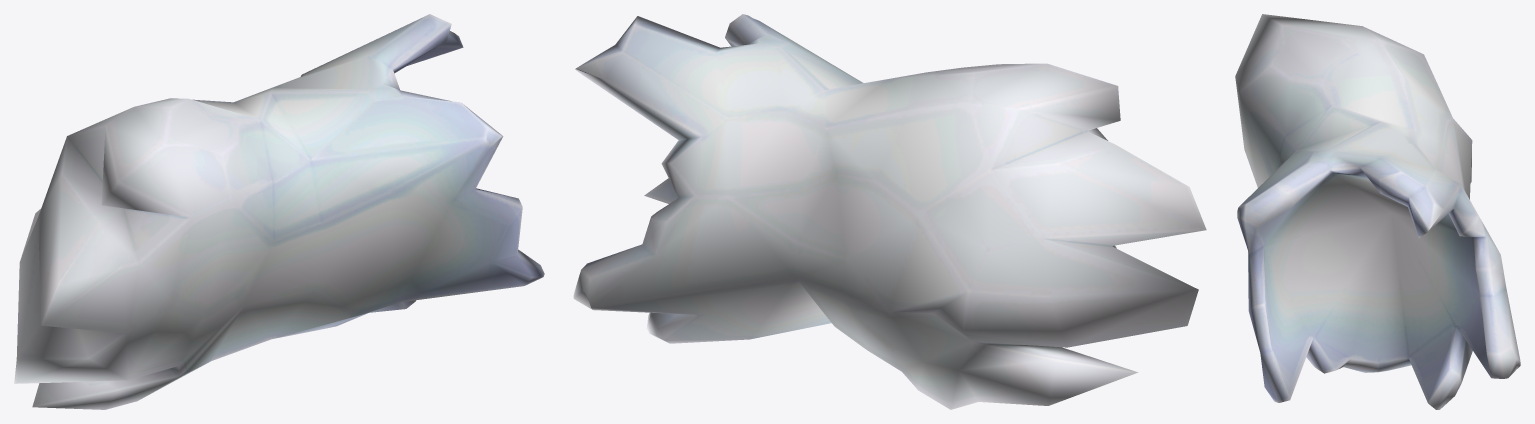
File: item_weaknumgm2501-et06.glb
3 renders of one model, left to right at view 1: azimuth 30°, elevation 25°; view 2: azimuth 150°, elevation 25°; view 3: azimuth 270°, elevation 25°, orthographic. The views are drawn at different scales.
Parts seen in each view (by area): view 1: FlyffMesh; view 2: FlyffMesh; view 3: FlyffMesh.
Boxes of the visible parts, x1=… form: FlyffMesh: x1=14, y1=14, x2=544, y2=409; FlyffMesh: x1=573, y1=14, x2=1206, y2=409; FlyffMesh: x1=1235, y1=14, x2=1520, y2=409.
Size of the model in its own units: 0.6683 by 0.3619 by 0.3364.
Materials: 1 (1 with a texture image).
